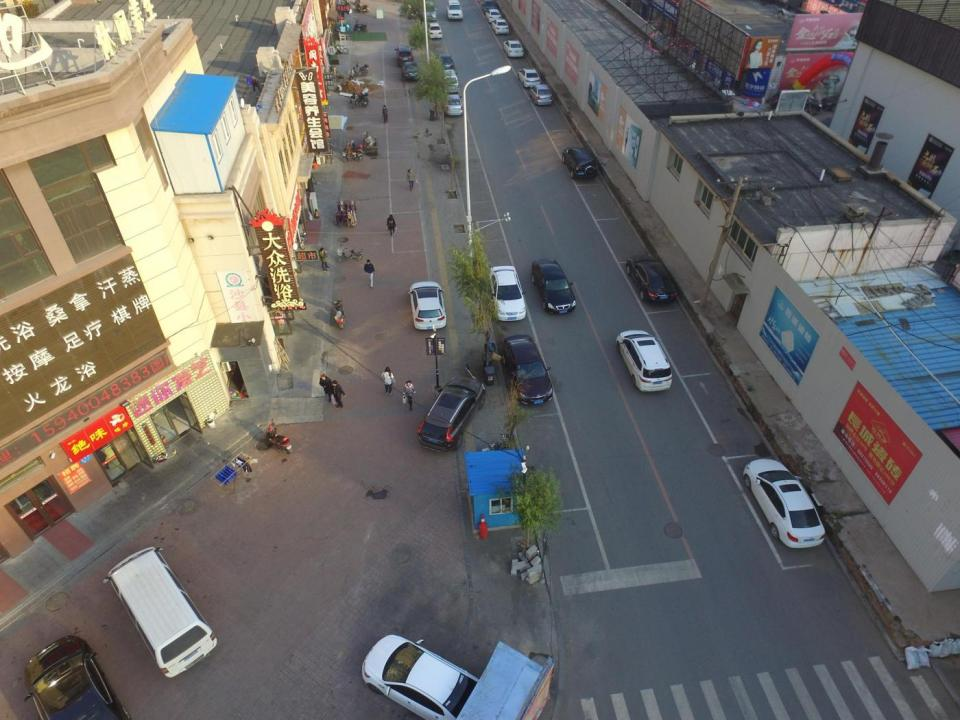car: (360, 632, 490, 720), (22, 632, 140, 720), (740, 456, 828, 550), (416, 375, 487, 453), (613, 328, 674, 393), (500, 334, 554, 406), (625, 254, 678, 305), (530, 258, 576, 315), (486, 265, 526, 322), (407, 280, 447, 330), (561, 146, 598, 180), (528, 83, 552, 106), (517, 66, 542, 88), (442, 93, 464, 116), (401, 60, 421, 82), (394, 44, 414, 66), (502, 38, 524, 57), (446, 0, 464, 21), (491, 16, 510, 34), (420, 0, 436, 21), (436, 54, 456, 70), (427, 21, 442, 39), (485, 7, 502, 22), (352, 20, 368, 32), (354, 3, 370, 14)
van: (101, 542, 218, 679), (439, 68, 460, 95)
